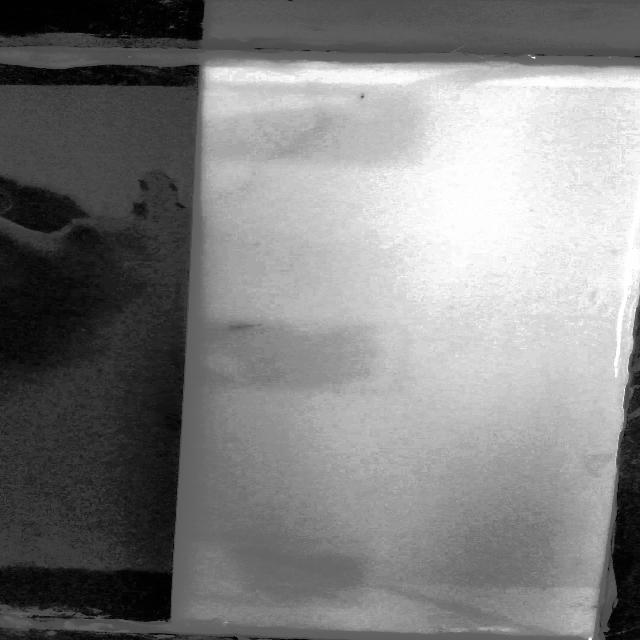shrimp: (222, 321, 256, 333), (347, 90, 371, 99)
